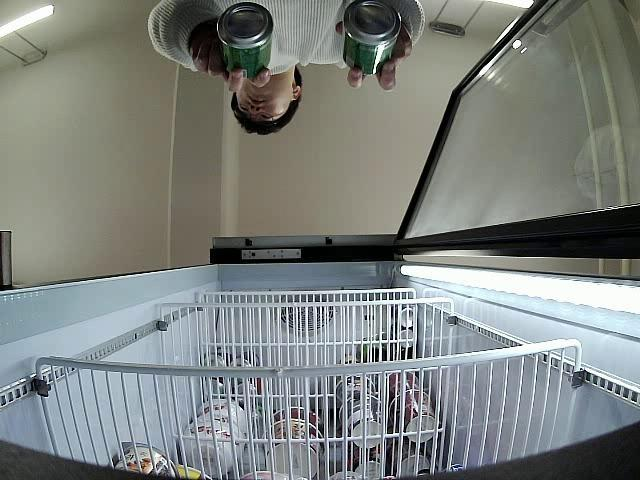12_chilsungCider: (342, 0, 402, 75), (218, 4, 272, 76)
